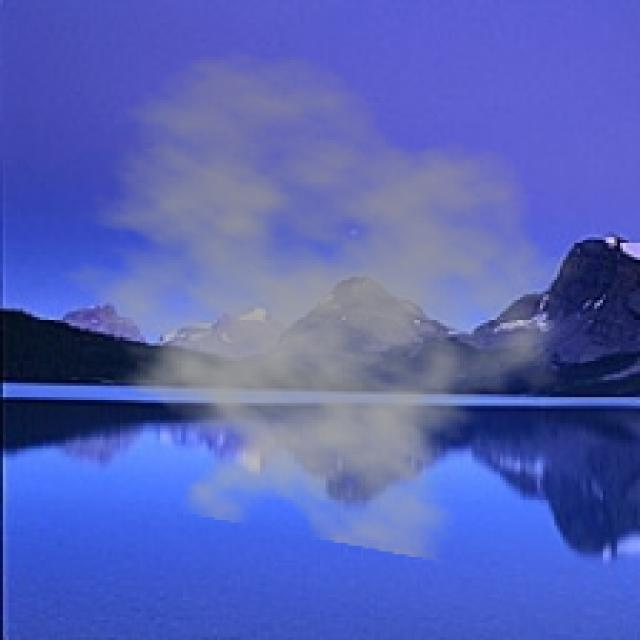smoke: (40, 48, 586, 563)
